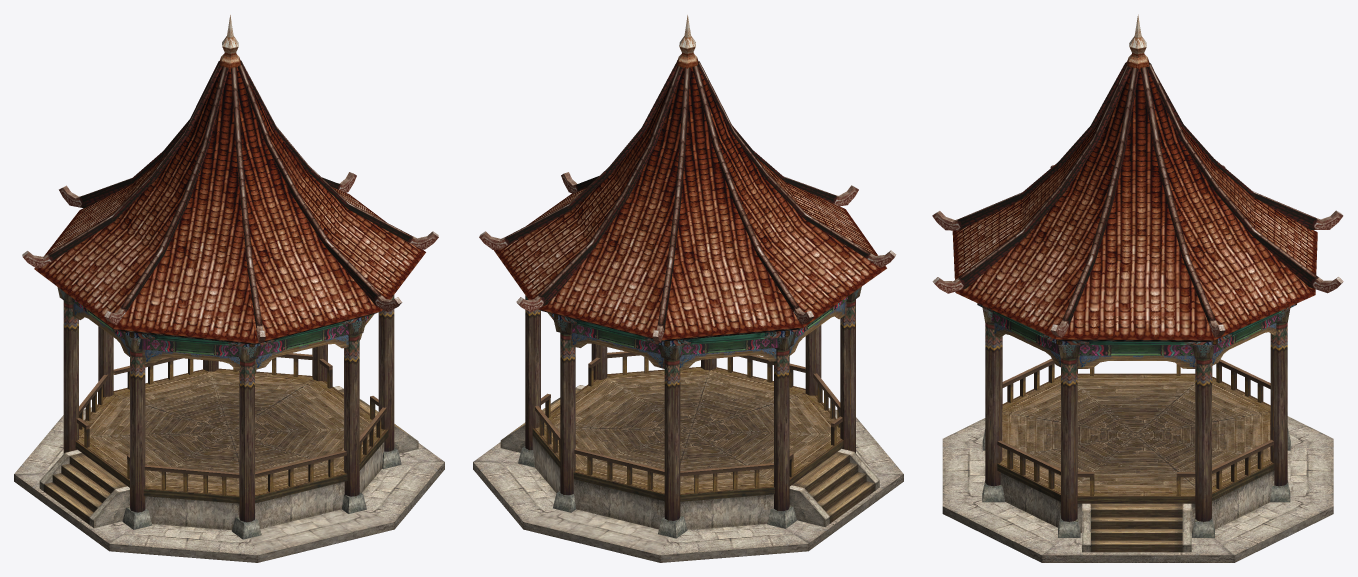
File: a1-001-house3.fbx
3 views of the same model, side by side, from view 1: azimuth 30°, elevation 25°; view 2: azimuth 150°, elevation 25°; view 3: azimuth 270°, elevation 25° (orthographic).
Visible parts, largest first — view 1: b1-001-house3; view 2: b1-001-house3; view 3: b1-001-house3.
Boxes of the visible parts, <box> form: b1-001-house3: <box>14,15,444,562</box>; b1-001-house3: <box>473,15,903,562</box>; b1-001-house3: <box>932,14,1343,562</box>.
Size of the model in its own units: 8.17 by 10.72 by 8.58.
